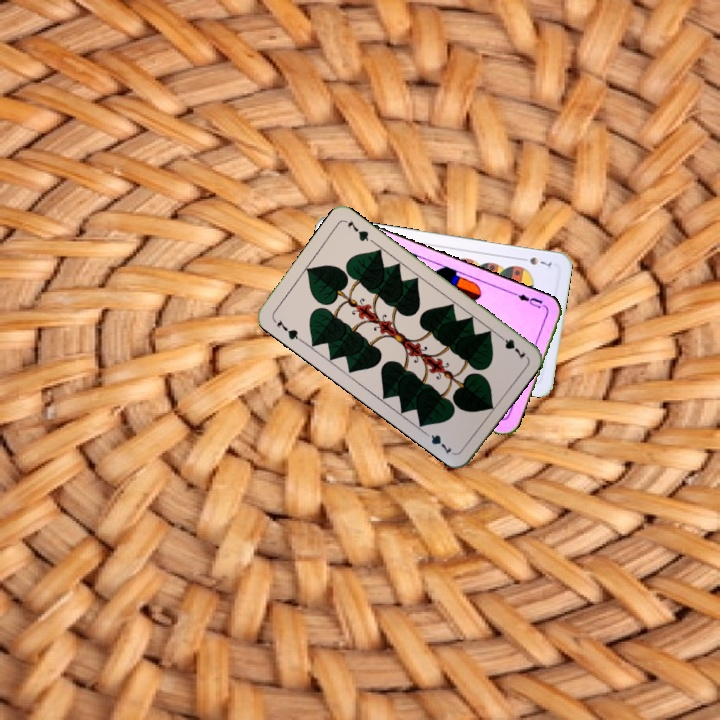EU: (511, 289, 550, 317)
G7: (493, 330, 528, 361), (269, 315, 304, 344)
S7: (516, 253, 554, 269)
